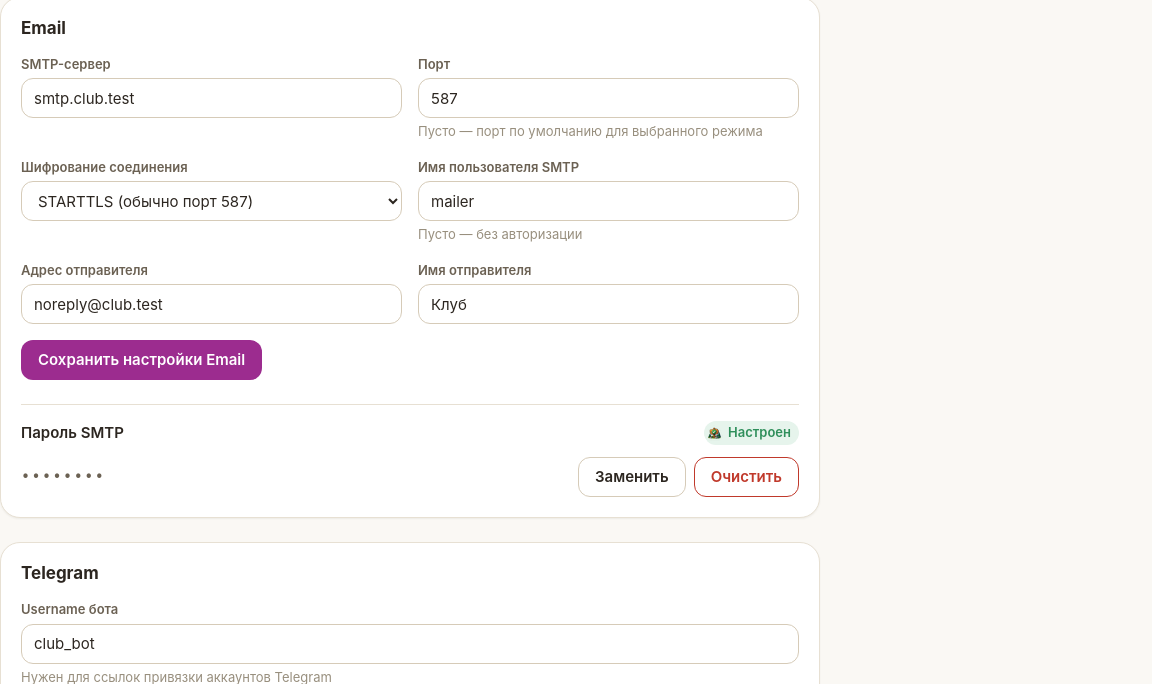
Test case: Integrations and write-only secrets › maps validation errors to field messages
(page scrolled)
Click the button "Сохранить настройки Email": [142, 360] box [21,340,262,380]
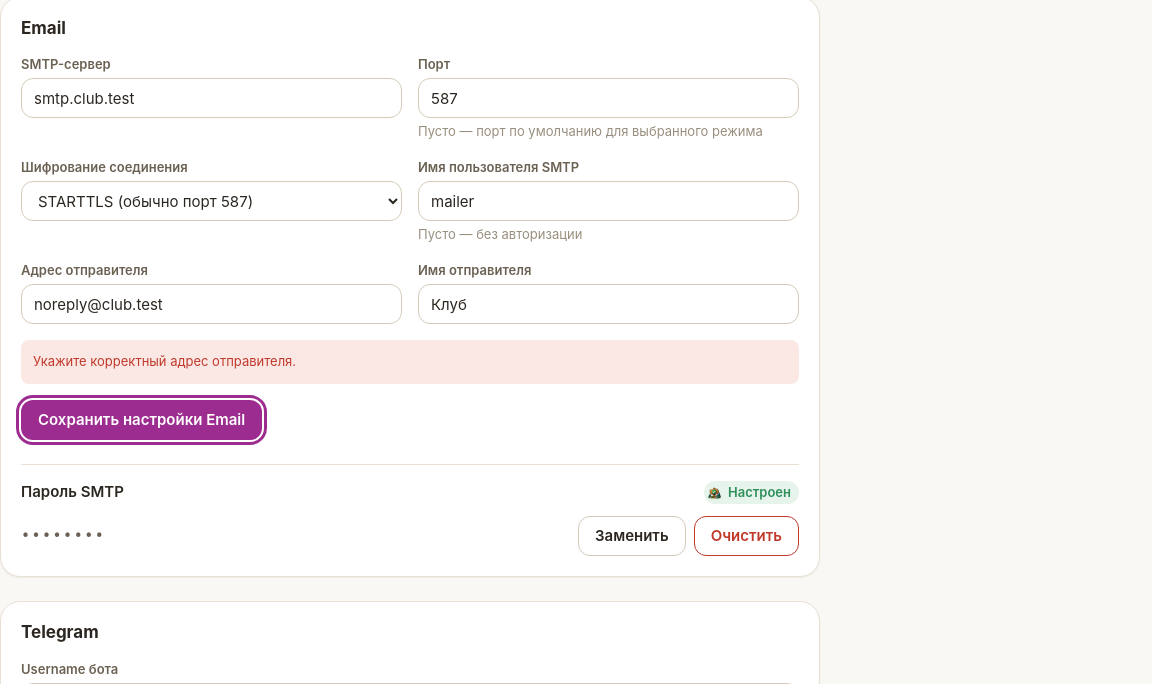
Check: the text "Укажите корректный адрес отправителя." is shown, box [21,340,799,384]
